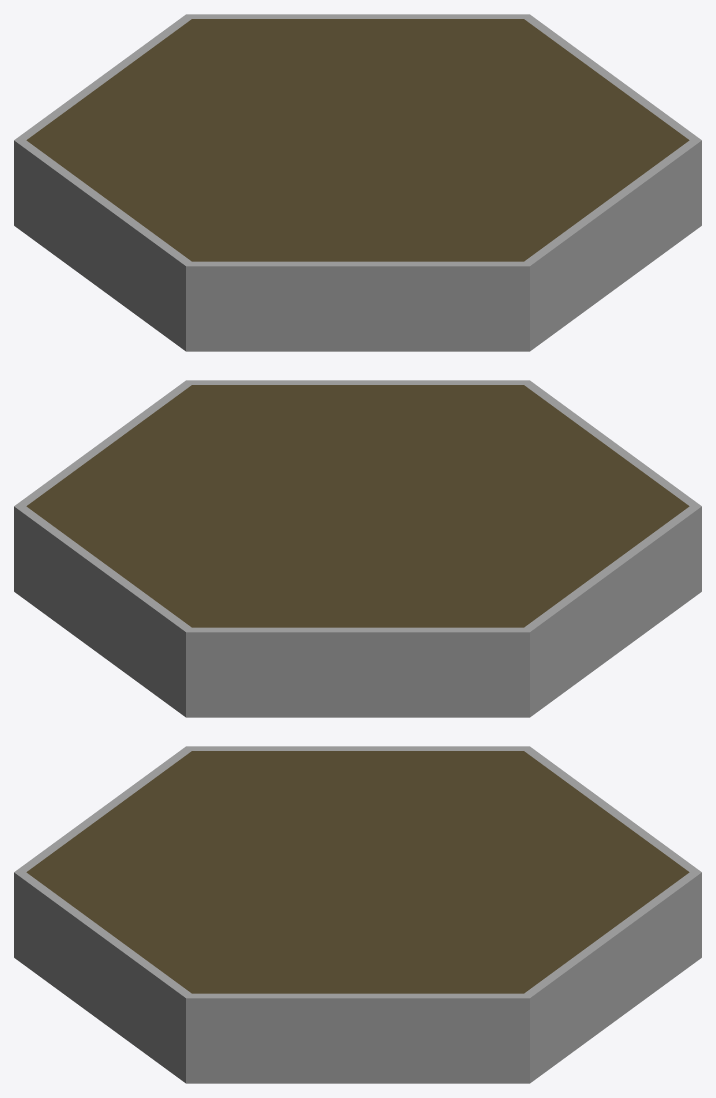
File: gridmountain.fbx
3 views of the same model, one above another, from view 1: azimuth 30°, elevation 25°; view 2: azimuth 150°, elevation 25°; view 3: azimuth 270°, elevation 25° (orthographic).
Visible parts, largest first — view 1: pCylinder25; view 2: pCylinder25; view 3: pCylinder25.
Boxes of the visible parts, box(x1,y1,x2,y2) form: pCylinder25: box(14, 14, 701, 351); pCylinder25: box(14, 380, 701, 717); pCylinder25: box(14, 746, 701, 1083).
Size of the model in its own units: 86.6 by 13.69 by 100.
